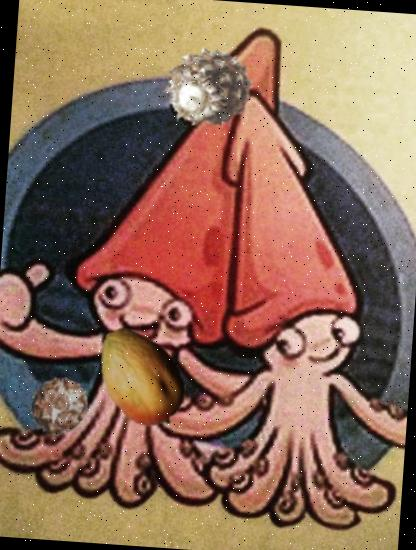Papaya: (82, 319, 198, 435)
Pineapple: (159, 38, 256, 134), (27, 374, 92, 438)
